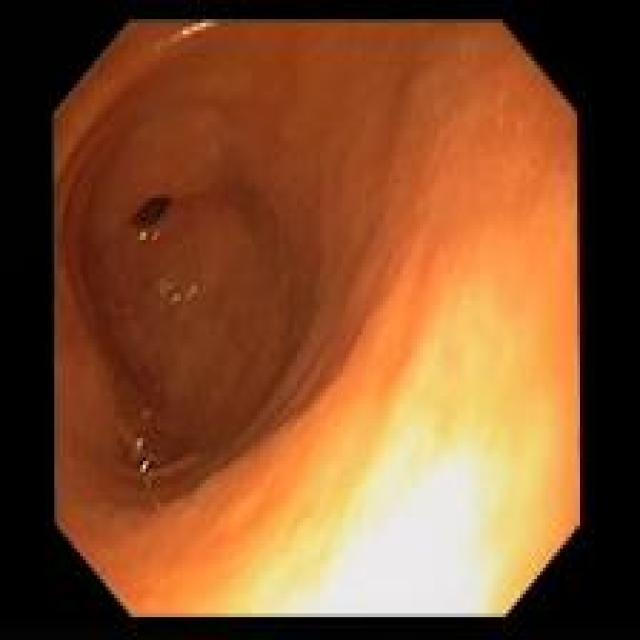contrast: (131, 191, 170, 225)
saturation: (296, 288, 579, 617), (207, 495, 296, 616)
specularity: (169, 19, 228, 44), (136, 455, 155, 483), (169, 288, 179, 305), (137, 228, 147, 240)
